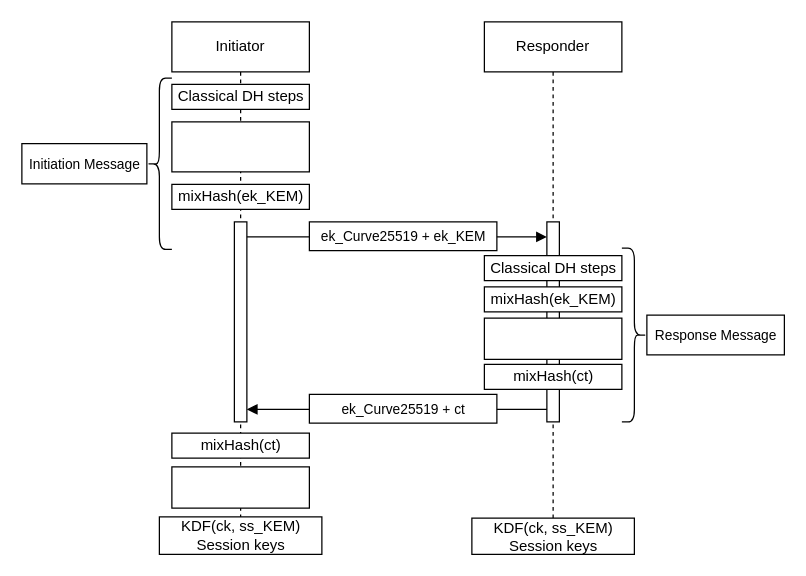
The diagram is 806 pixels wide and 576 high, and some of its shapes have lost their labels. Each missing label, with the centre of its shape:
"Decap(dk_KEM, ct) ss_kem" belongs at [240,487].
"Encap(ek_KEM) ct + ss_kem" belongs at [552,338].
"KEM_Keygen() ek_KEM + dk_KEM" belongs at [240,146].
